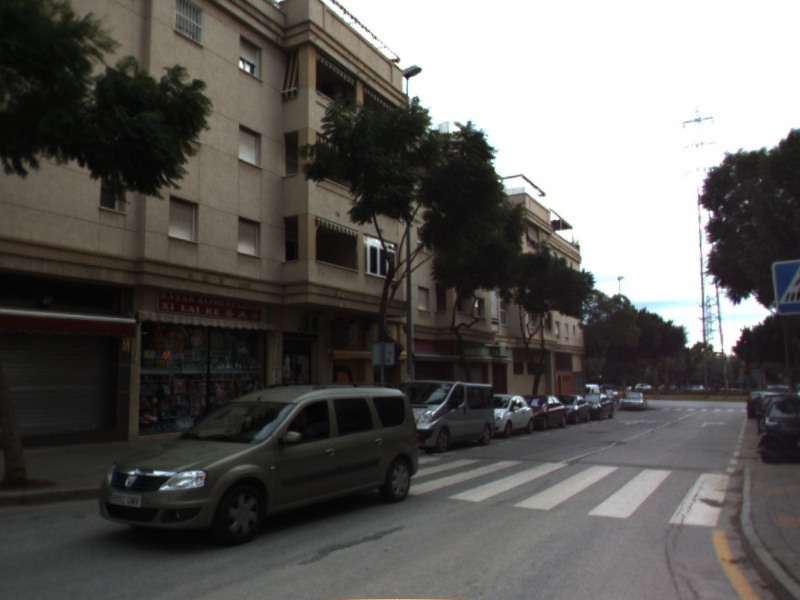RIGHT: (698, 419, 728, 429)
